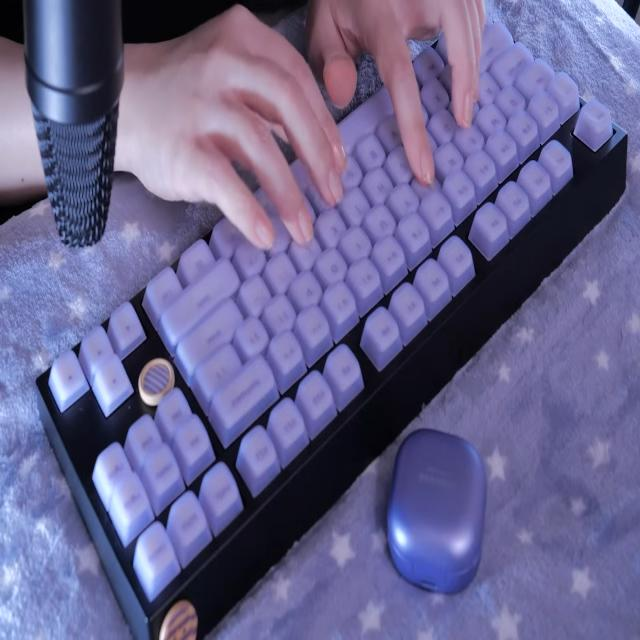keyboard-with-hands: (38, 8, 628, 621)
